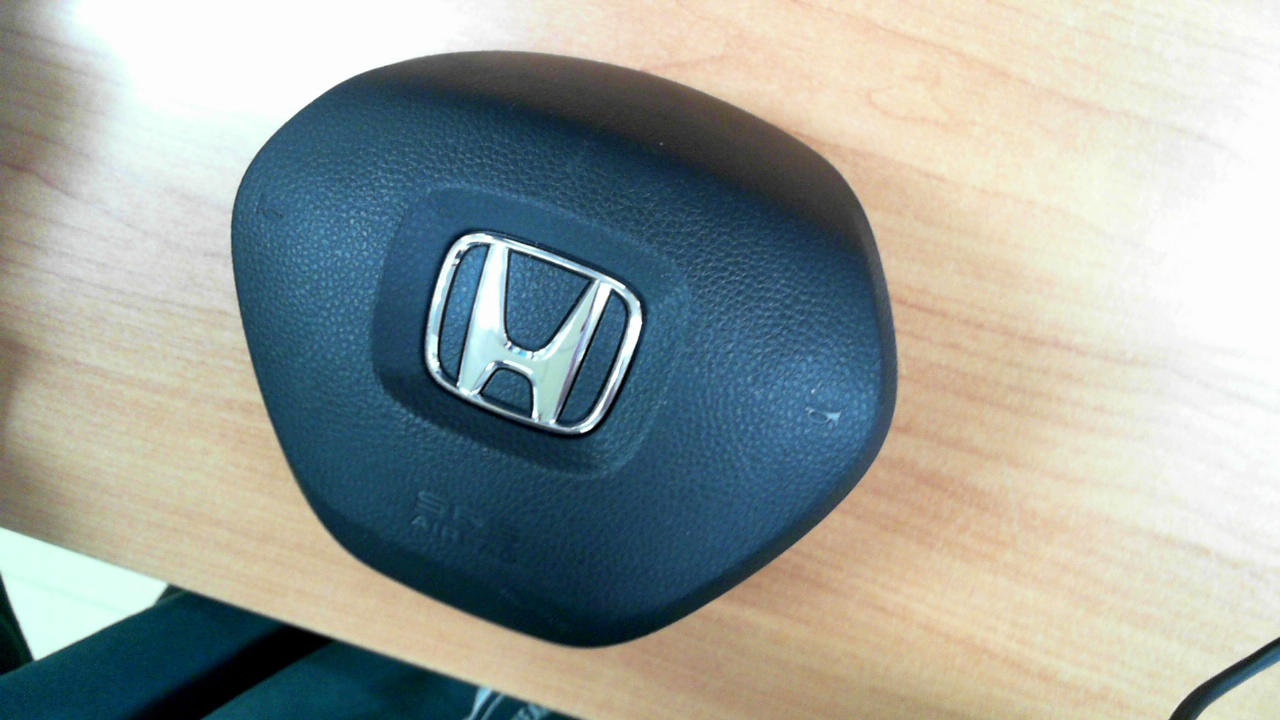Airbag: (229, 49, 900, 651)
Honda: (424, 232, 644, 435)
